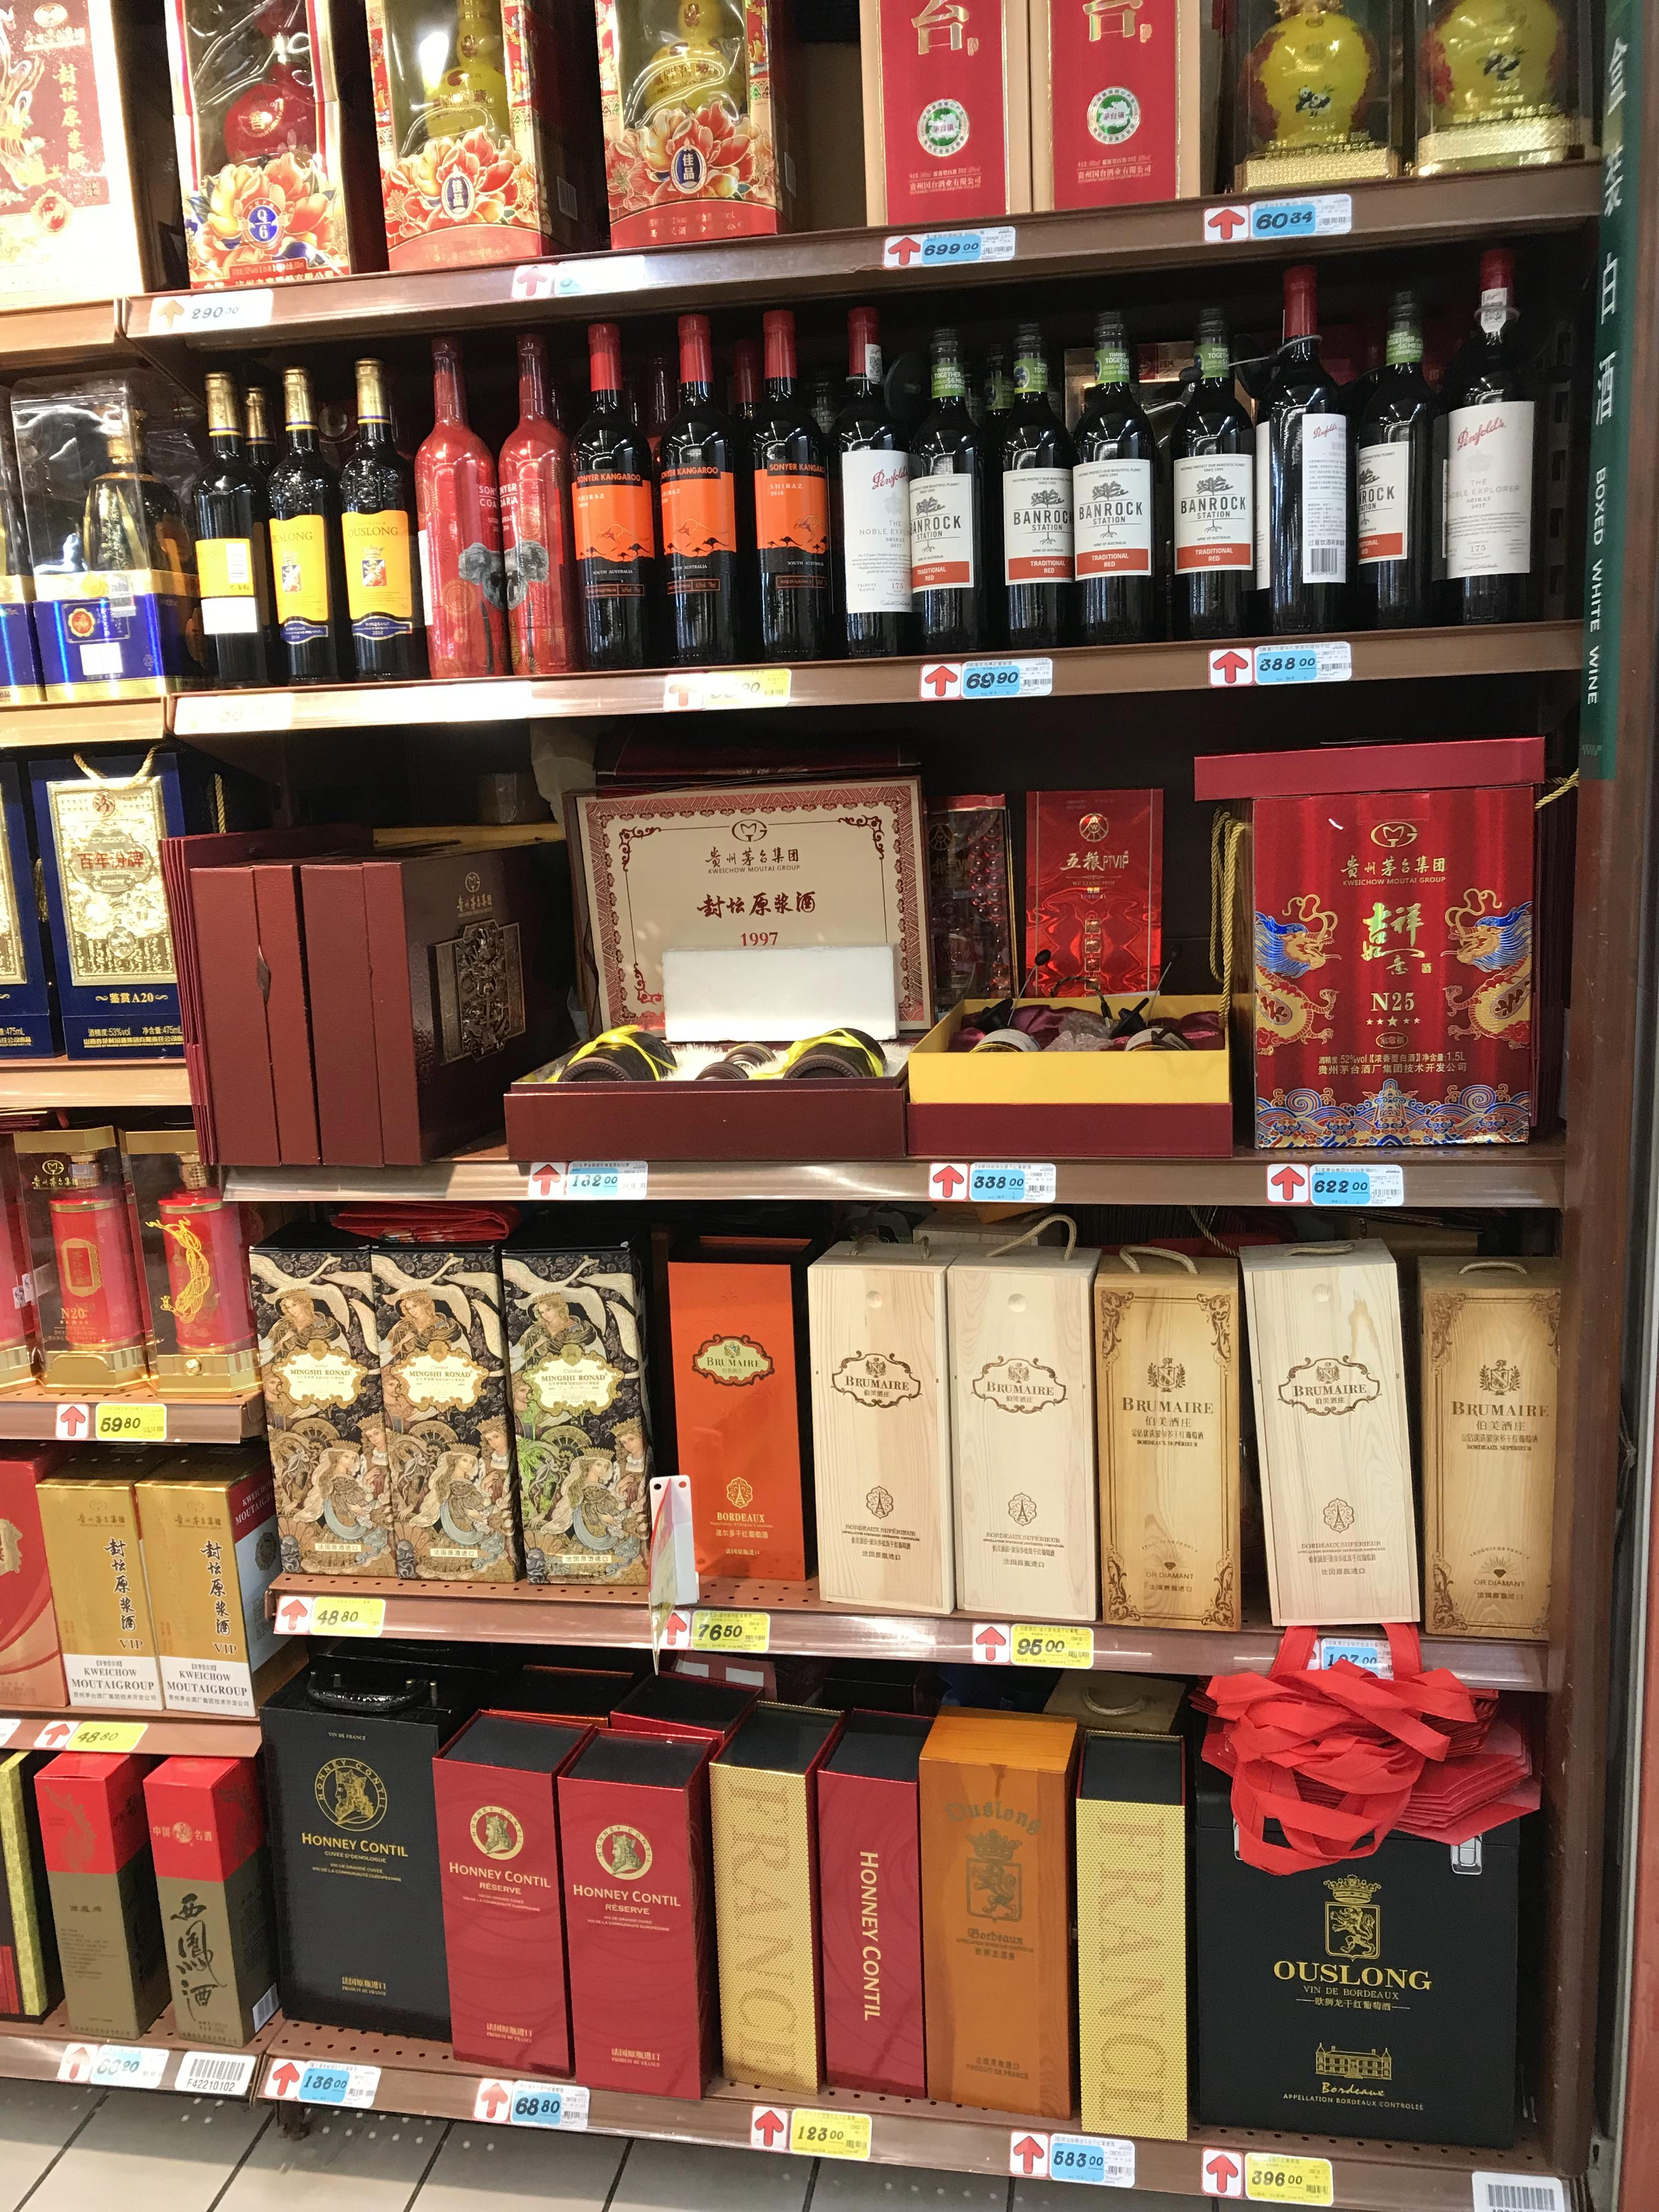bottle: (1436, 254, 1539, 627), (1033, 782, 1166, 1064), (1345, 273, 1443, 631), (565, 322, 659, 667), (655, 315, 748, 664), (1260, 268, 1349, 629), (1162, 308, 1256, 639), (495, 334, 587, 671), (410, 345, 502, 678), (746, 307, 831, 662), (1241, 0, 1398, 192), (826, 307, 911, 657), (1068, 317, 1159, 644), (903, 319, 988, 655), (336, 362, 425, 683), (988, 322, 1073, 650), (263, 366, 350, 686), (1415, 0, 1570, 178), (192, 376, 277, 691)
box: (307, 829, 565, 1169), (1239, 1249, 1422, 1623), (251, 1226, 432, 1578), (1406, 1264, 1570, 1646), (497, 1245, 666, 1587), (941, 1249, 1094, 1622), (793, 1249, 950, 1613), (164, 0, 359, 291), (941, 1249, 1093, 1622), (1091, 1244, 1237, 1625), (655, 1245, 809, 1608), (23, 354, 185, 688), (350, 0, 552, 265), (371, 1237, 521, 1587), (430, 1709, 572, 2078), (584, 0, 784, 254), (831, 0, 1047, 233), (1019, 0, 1222, 226), (0, 3, 150, 308), (35, 749, 183, 1055), (186, 846, 319, 1176), (115, 1125, 268, 1399), (136, 1756, 281, 2045), (9, 1129, 139, 1397), (138, 1465, 268, 1717), (38, 1458, 164, 1714)
others: (1194, 1667, 1612, 2148), (504, 784, 917, 1157), (1190, 733, 1544, 1143), (922, 1705, 1096, 2127), (265, 1674, 441, 2040), (558, 1723, 728, 2092), (906, 989, 1236, 1157), (1077, 1726, 1188, 2142), (817, 1709, 927, 2097), (711, 1705, 821, 2094), (33, 1745, 174, 2040)
